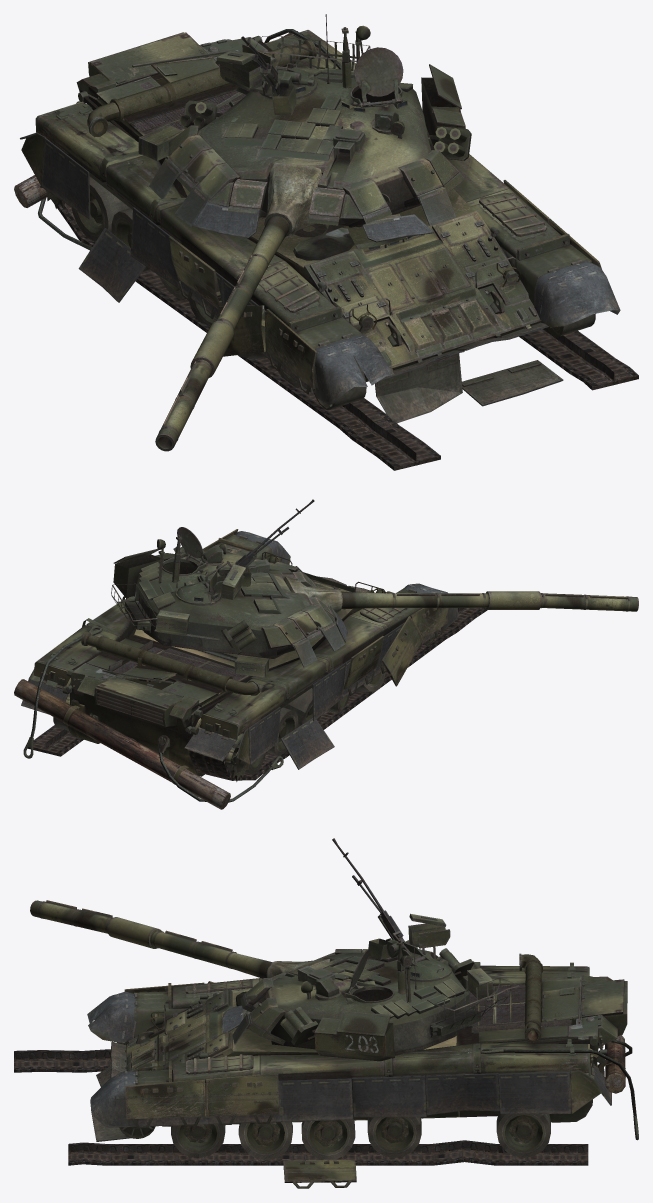
Rendered from t-80_damaged.glb.
The picture shows the model from 3 angles, top to bottom: view 1: azimuth 30°, elevation 25°; view 2: azimuth 150°, elevation 25°; view 3: azimuth 270°, elevation 25°; orthographic projection. The views are drawn at different scales.
Visible parts, largest first — view 1: mesh1_t80_0, mesh0_t80track_0; view 2: mesh1_t80_0, mesh0_t80track_0; view 3: mesh1_t80_0, mesh0_t80track_0.
Boxes of the visible parts, x1,y1,x2,y2 form: mesh1_t80_0: (20,14,620,451); mesh0_t80track_0: (14,31,638,470); mesh1_t80_0: (21,499,638,802); mesh0_t80track_0: (14,608,487,809); mesh1_t80_0: (30,838,638,1188); mesh0_t80track_0: (14,953,625,1165).
Size of the model in its own units: 7.07 by 3.54 by 8.41.
2 materials, 2 textured.
